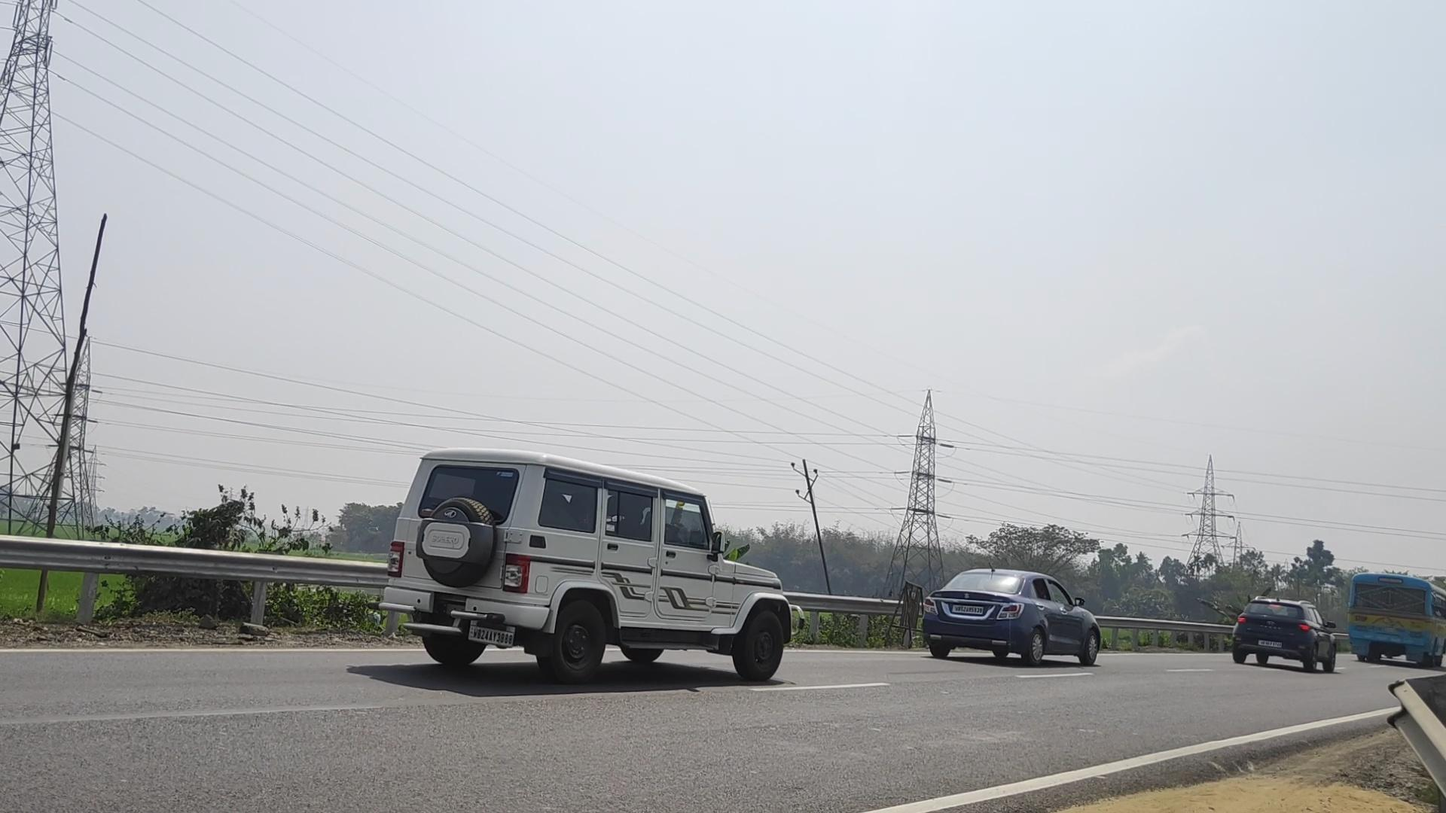Bus: (1347, 573, 1446, 668)
car: (370, 447, 806, 687), (918, 568, 1102, 667), (1232, 595, 1337, 673)
